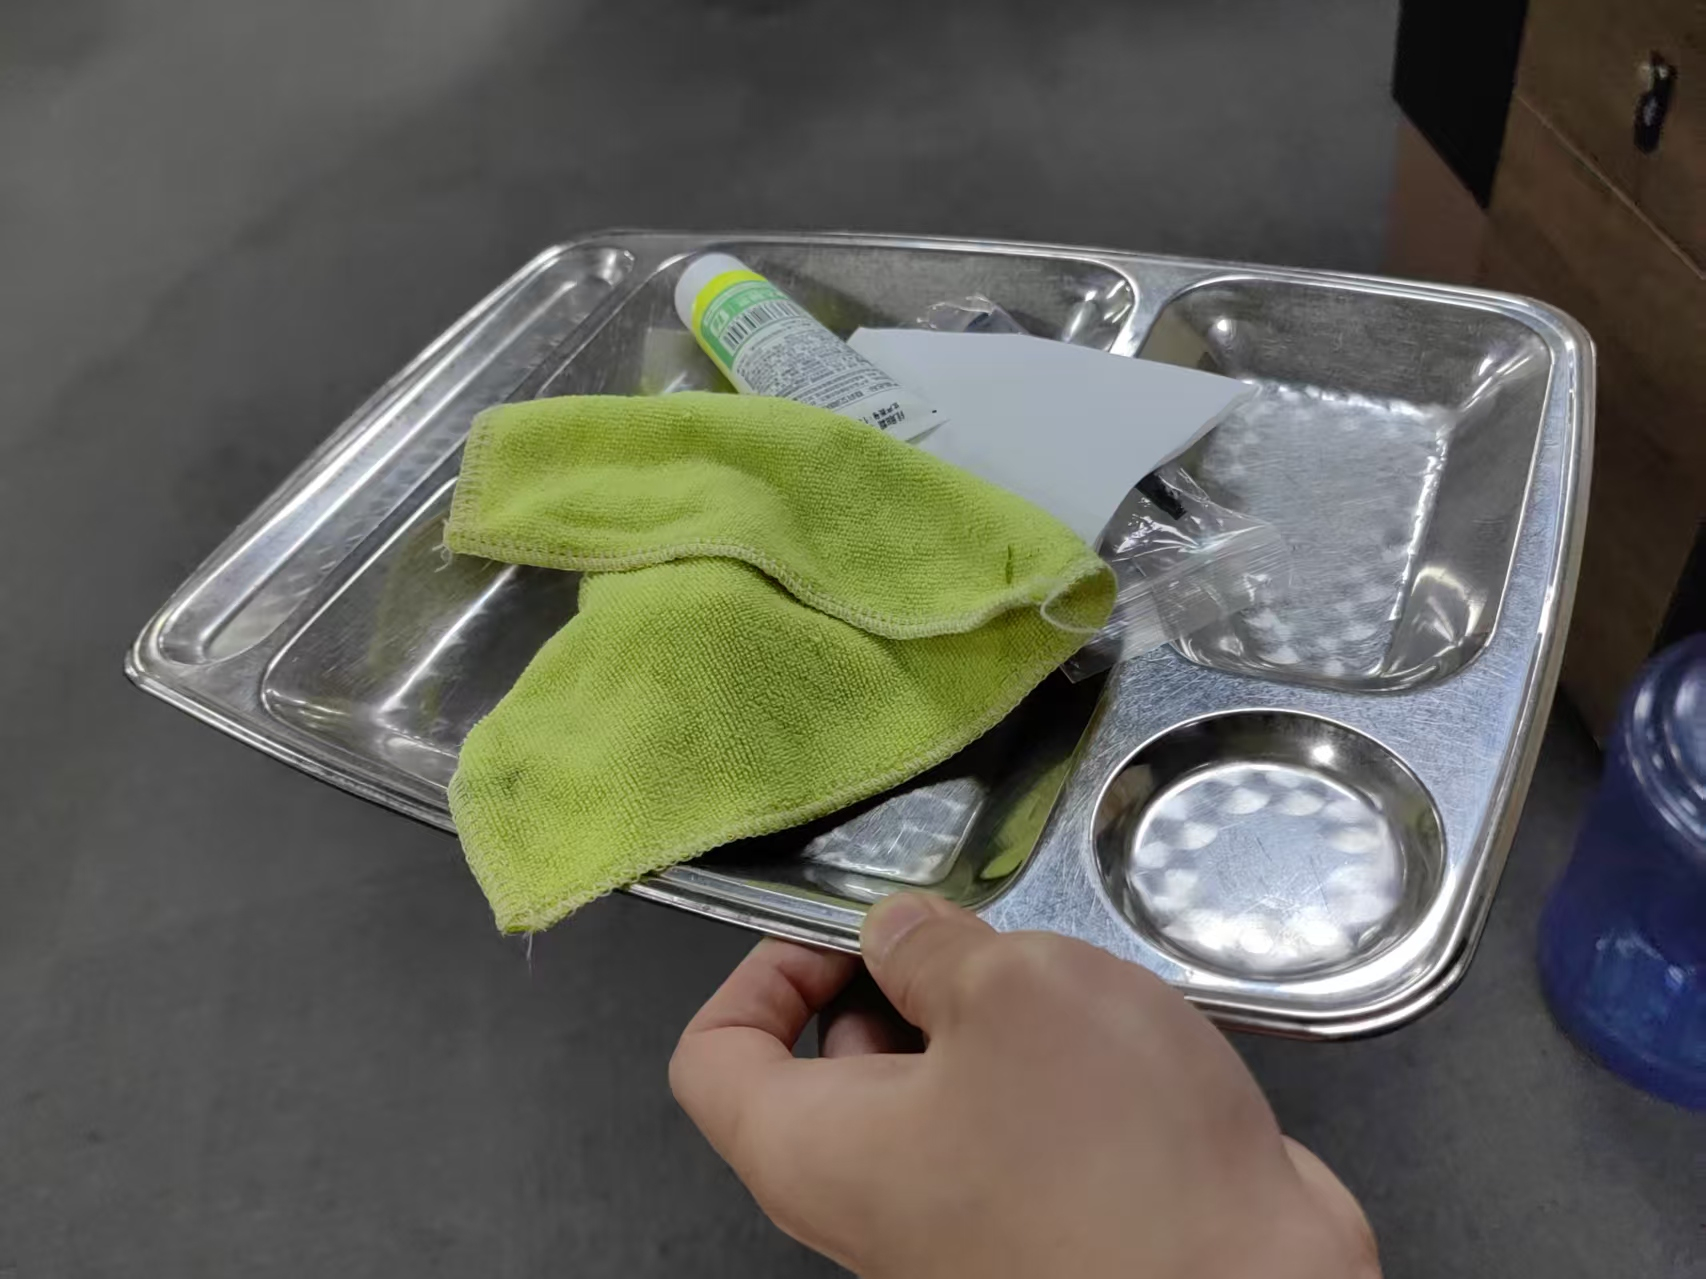moderate: (439, 255, 1255, 938)
plate: (125, 221, 1600, 1046)
tissue: (822, 327, 1253, 566)
